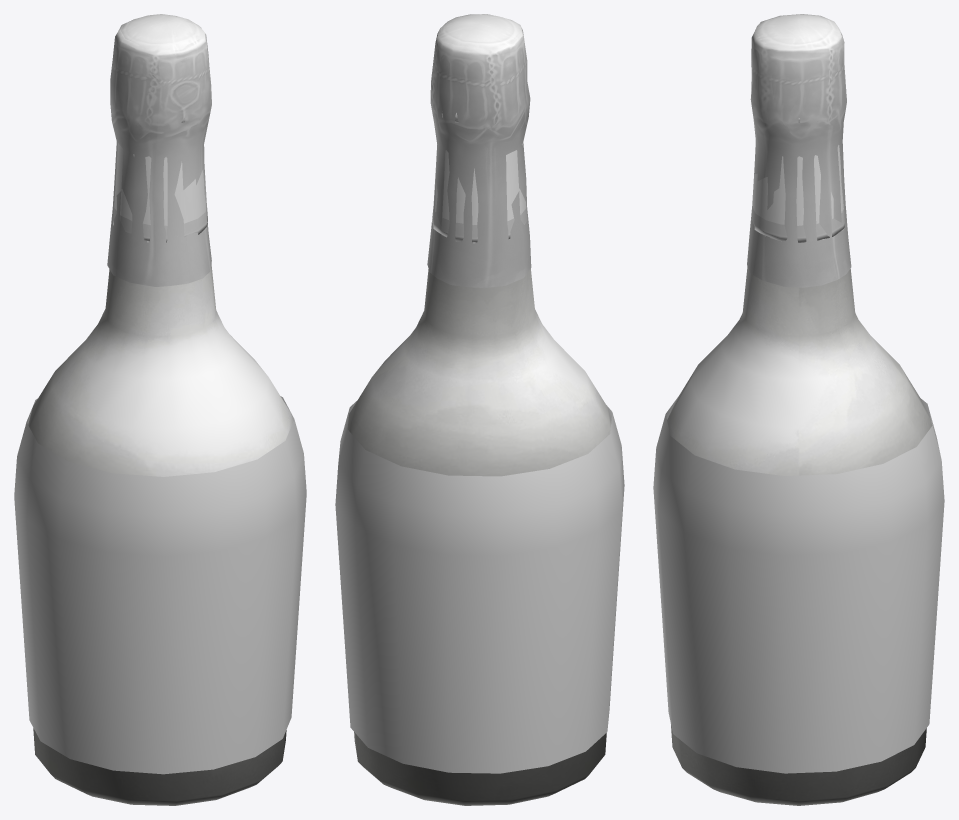
The model's file is Champagne_Doyard_75cl.glb.
The picture shows the model from 3 angles, left to right: view 1: azimuth 30°, elevation 25°; view 2: azimuth 150°, elevation 25°; view 3: azimuth 270°, elevation 25°; orthographic projection.
Visible parts, largest first — view 1: label, bottiglia, champagneAluminium, longAluminium, longWax; view 2: label, bottiglia, champagneAluminium, longAluminium, longWax; view 3: label, bottiglia, champagneAluminium, longAluminium, longWax.
Boxes of the visible parts, box(x1,y1,x2,y2) form: label: box(14, 396, 306, 774); bottiglia: box(28, 264, 293, 805); champagneAluminium: box(107, 14, 211, 286); longAluminium: box(114, 121, 206, 242); longWax: box(113, 119, 207, 242); label: box(335, 401, 624, 773); bottiglia: box(347, 268, 611, 805); champagneAluminium: box(427, 14, 531, 287); longAluminium: box(433, 116, 526, 243); longWax: box(432, 114, 527, 242); label: box(653, 397, 944, 773); bottiglia: box(667, 244, 932, 805); champagneAluminium: box(747, 14, 851, 287); longAluminium: box(752, 145, 843, 241); longWax: box(751, 109, 846, 242).
Bounding box in the file's own units: 0.1044 × 0.291 × 0.1044.
8 materials, 7 textured.
